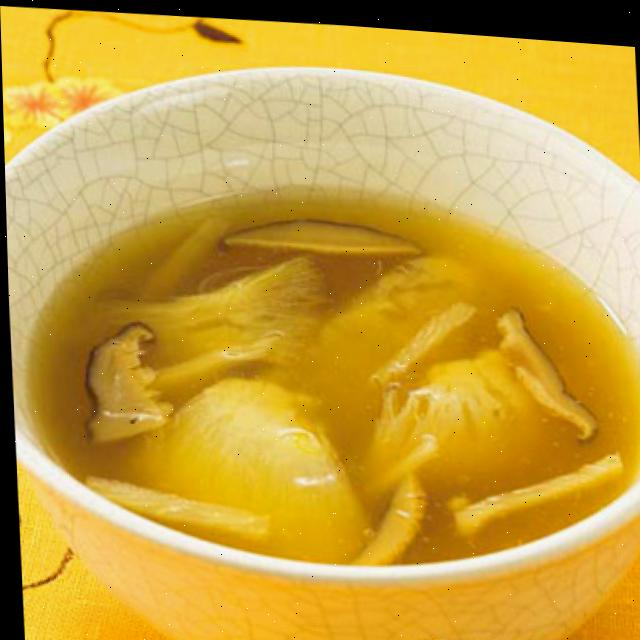汤锅炖物: (1, 26, 640, 640)
